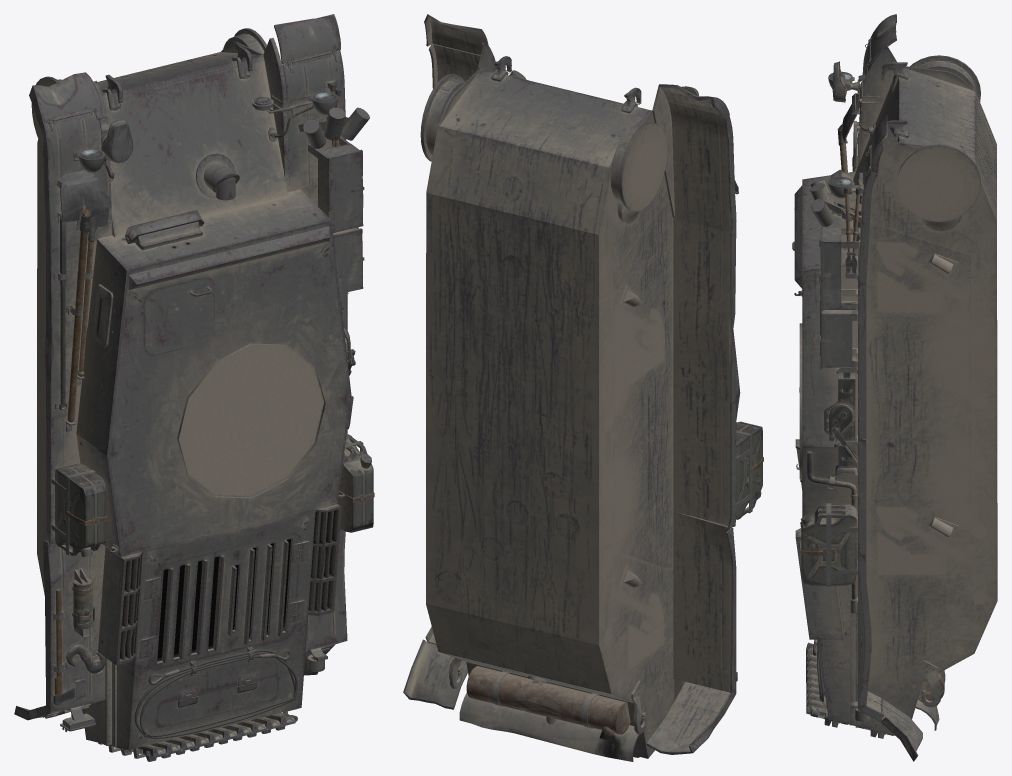
The model's file is Hull.glb.
3 views of the same model, side by side, from view 1: azimuth 30°, elevation 25°; view 2: azimuth 150°, elevation 25°; view 3: azimuth 270°, elevation 25° (orthographic). The views are drawn at different scales.
Visible parts, largest first — view 1: set_0_group_0; view 2: set_0_group_0; view 3: set_0_group_0.
Part boxes in pixels (x1,y1,x2,y2): set_0_group_0: (14,14,374,761); set_0_group_0: (403,14,763,761); set_0_group_0: (792,14,997,761).
Bounding box in the file's own units: 1.96 × 4.25 × 1.25.
Materials: 1 (1 with a texture image).
